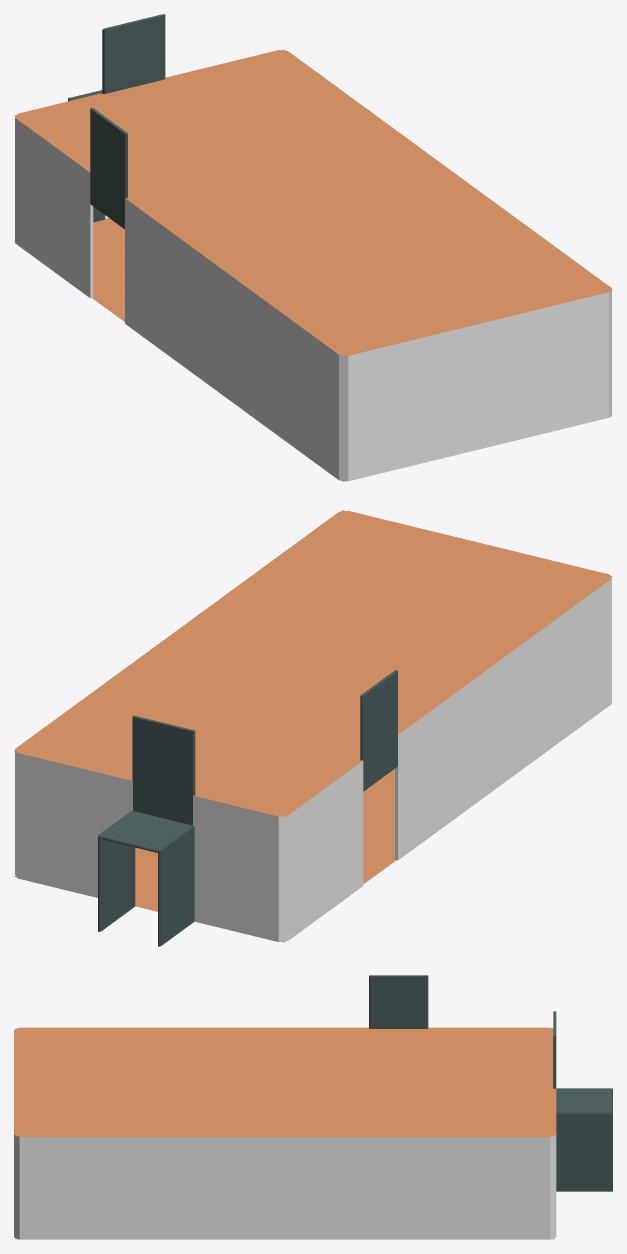
File: room 10.obj
3 renders of one model, top to bottom at view 1: azimuth 30°, elevation 25°; view 2: azimuth 150°, elevation 25°; view 3: azimuth 270°, elevation 25°, orthographic. The views are drawn at different scales.
Visible parts, largest first — view 1: result.030_Cube.050, wall.230_wall.002, wall.231_wall.002, wall.232_wall.002, wall.227_wall.020, wall.224_wall.010, wall.181_wall.010, wall.228_wall.020, wall.226_wall.020, wall.229_wall.002; view 2: result.030_Cube.050, wall.231_wall.002, wall.234_wall.002, wall.232_wall.002, wall.233_wall.002, wall.226_wall.020, wall.224_wall.010, wall.181_wall.010, wall.222_wall.010, wall.225_wall.020, wall.221_wall.010, wall.223_wall.010 (+2 smaller); view 3: result.030_Cube.050, wall.229_wall.002, wall.221_wall.010, wall.225_wall.020, wall.181_wall.010, wall.228_wall.020, wall.223_wall.010, wall.231_wall.002.
Boxes of the visible parts, x1,y1,x2,y2 form: result.030_Cube.050: (14, 49, 612, 481); wall.230_wall.002: (372, 297, 583, 474); wall.231_wall.002: (125, 197, 326, 469); wall.232_wall.002: (29, 128, 93, 298); wall.227_wall.020: (324, 343, 373, 481); wall.224_wall.010: (102, 14, 165, 93); wall.181_wall.010: (90, 107, 127, 229); wall.228_wall.020: (583, 277, 611, 423); wall.226_wall.020: (15, 107, 44, 253); wall.229_wall.002: (300, 62, 596, 277); result.030_Cube.050: (14, 510, 612, 942); wall.231_wall.002: (395, 589, 597, 860); wall.234_wall.002: (43, 758, 132, 897); wall.232_wall.002: (300, 759, 363, 929); wall.233_wall.002: (193, 794, 253, 935); wall.226_wall.020: (253, 804, 302, 941); wall.224_wall.010: (132, 715, 195, 825); wall.181_wall.010: (360, 670, 397, 791); wall.222_wall.010: (158, 826, 194, 946); wall.225_wall.020: (15, 738, 43, 884); wall.221_wall.010: (98, 811, 135, 931); wall.223_wall.010: (99, 811, 192, 852); result.030_Cube.050: (15, 1028, 554, 1239); wall.229_wall.002: (43, 1135, 526, 1239); wall.221_wall.010: (556, 1112, 612, 1191); wall.225_wall.020: (526, 1124, 556, 1239); wall.181_wall.010: (369, 975, 428, 1028); wall.228_wall.020: (14, 1124, 43, 1239); wall.223_wall.010: (556, 1088, 612, 1112); wall.231_wall.002: (44, 1027, 369, 1028).
Size of the model in its own units: 9.1 by 6.04 by 21.1.
